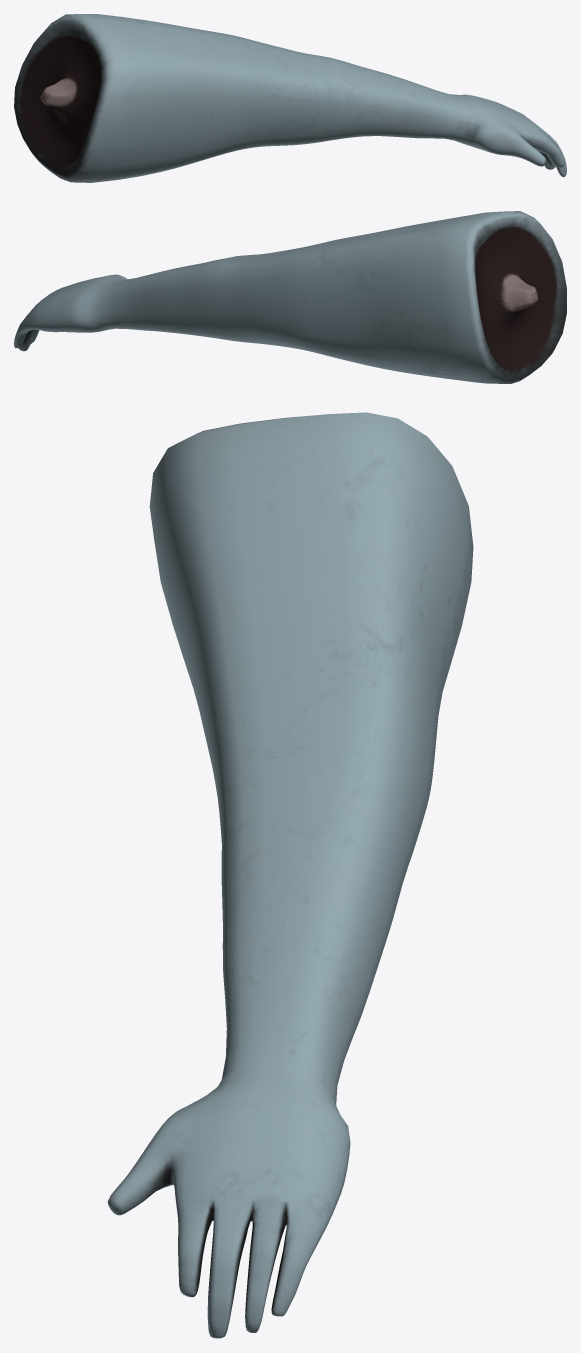
The model's file is b01_l_arm.fbx.
3 renders of one model, top to bottom at view 1: azimuth 30°, elevation 25°; view 2: azimuth 150°, elevation 25°; view 3: azimuth 270°, elevation 25°, orthographic. The views are drawn at different scales.
Visible parts, largest first — view 1: a01_r_arm10; view 2: a01_r_arm10; view 3: a01_r_arm10.
Part boxes in pixels (bbox=[...]): a01_r_arm10: bbox=[14, 14, 566, 182]; a01_r_arm10: bbox=[14, 211, 566, 383]; a01_r_arm10: bbox=[107, 412, 473, 1338].
Bounding box in the file's own units: 84.06 × 39.26 × 26.64.
Materials: 1 (1 with a texture image).
